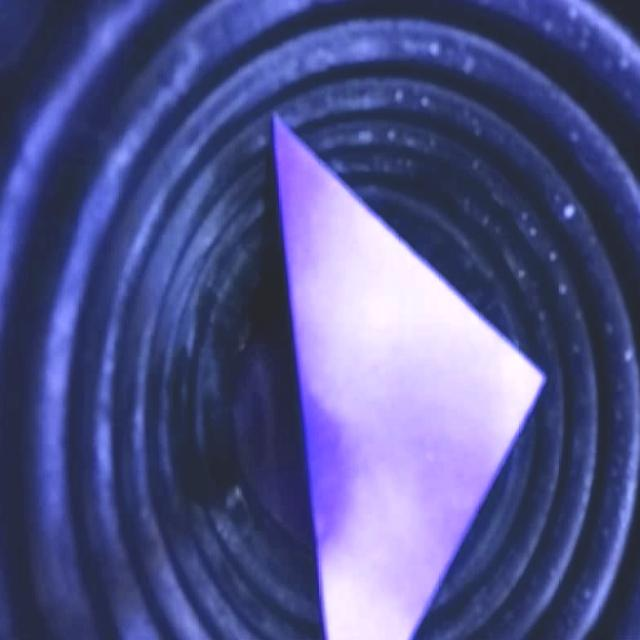obstacles: (270, 115, 537, 640)
